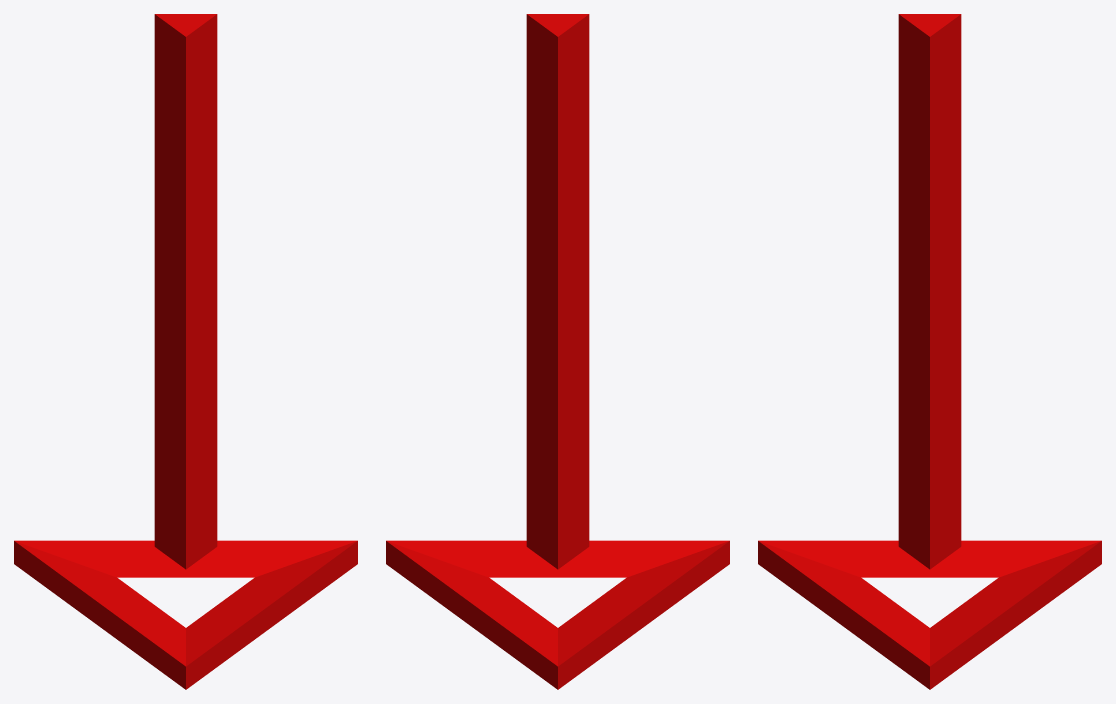
Rendered from GrafNode.fbx.
3 renders of one model, left to right at view 1: azimuth 30°, elevation 25°; view 2: azimuth 150°, elevation 25°; view 3: azimuth 270°, elevation 25°, orthographic.
Visible parts, largest first — view 1: Bottom, Top; view 2: Bottom, Top; view 3: Bottom, Top.
Boxes of the visible parts, x1,y1,x2,y2 form: Bottom: (154, 14, 217, 569); Top: (14, 540, 357, 689); Bottom: (526, 14, 589, 569); Top: (386, 540, 729, 689); Bottom: (898, 14, 961, 569); Top: (758, 540, 1101, 689).
Size of the model in its own units: 0.1486 by 0.3218 by 0.1716.
